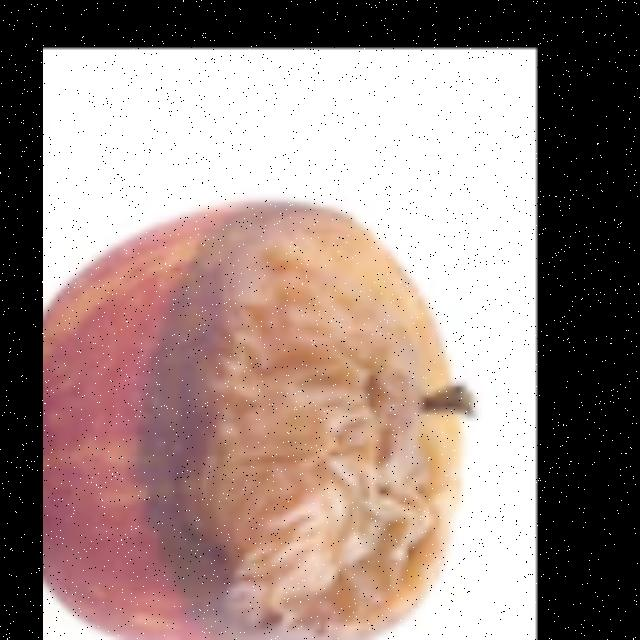Apel Tidak Segar: (41, 188, 482, 640)
